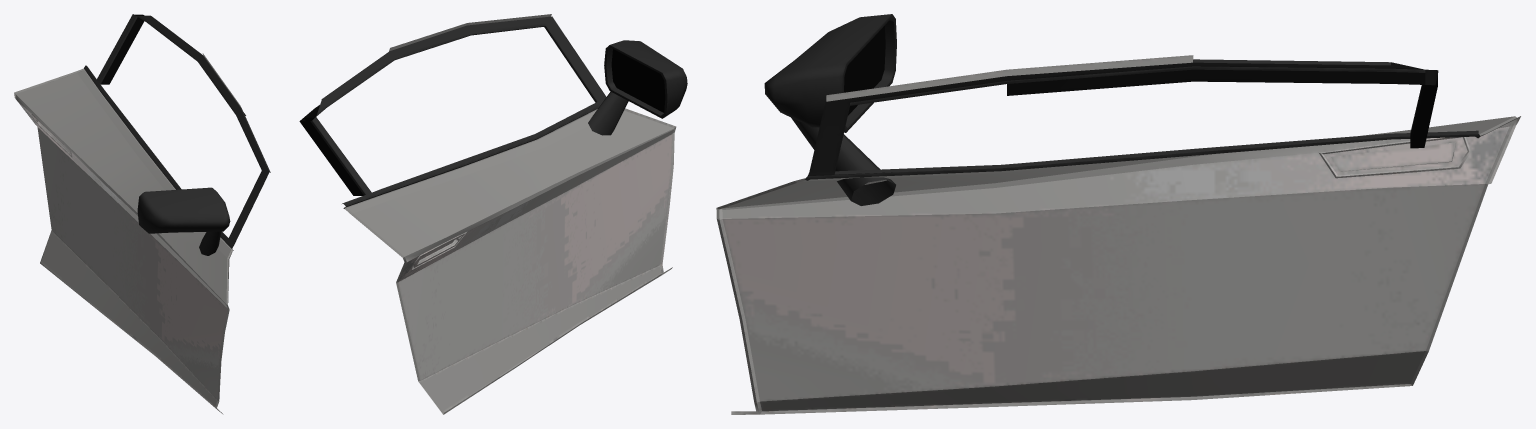
Rendered from puerta.obj.
The picture shows the model from 3 angles, left to right: view 1: azimuth 30°, elevation 25°; view 2: azimuth 150°, elevation 25°; view 3: azimuth 270°, elevation 25°; orthographic projection. The views are drawn at different scales.
Parts seen in each view (by area): view 1: Body; view 2: Body; view 3: Body.
Boxes of the visible parts, <box> form: Body: <box>14,14,270,414</box>; Body: <box>299,14,687,414</box>; Body: <box>716,14,1520,414</box>.
Size of the model in its own units: 55.53 by 83.43 by 134.
